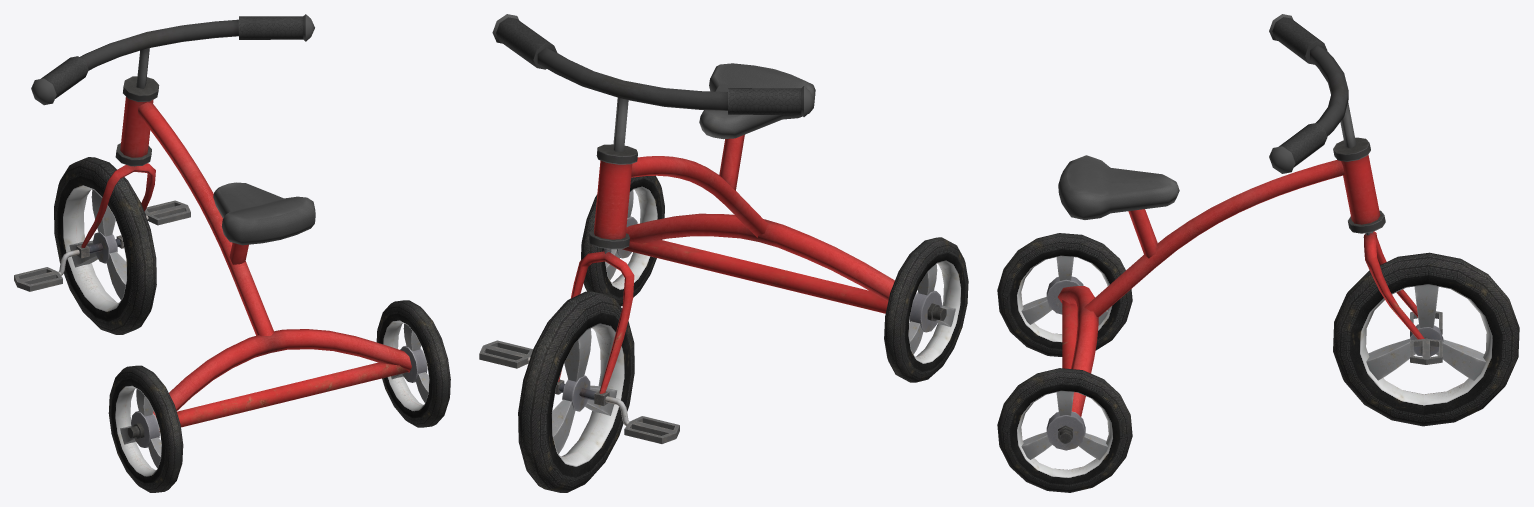
File: Tricycle.glb
3 views of the same model, side by side, from view 1: azimuth 30°, elevation 25°; view 2: azimuth 150°, elevation 25°; view 3: azimuth 270°, elevation 25° (orthographic). The views are drawn at different scales.
Parts seen in each view (by area): view 1: Tricycle__LOD3; view 2: Tricycle__LOD3; view 3: Tricycle__LOD3.
Boxes of the visible parts, x1=… form: Tricycle__LOD3: x1=14, y1=14, x2=450, y2=492; Tricycle__LOD3: x1=479, y1=14, x2=968, y2=492; Tricycle__LOD3: x1=997, y1=14, x2=1519, y2=492.
Bounding box in the file's own units: 0.6348 × 0.6773 × 0.93.
Materials: 1 (1 with a texture image).
